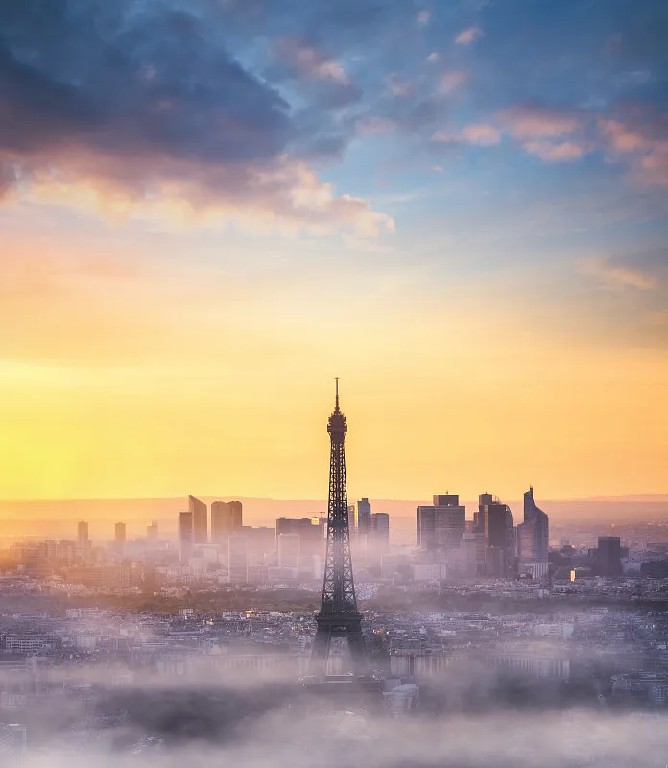Eiffel: (309, 378, 370, 681)
